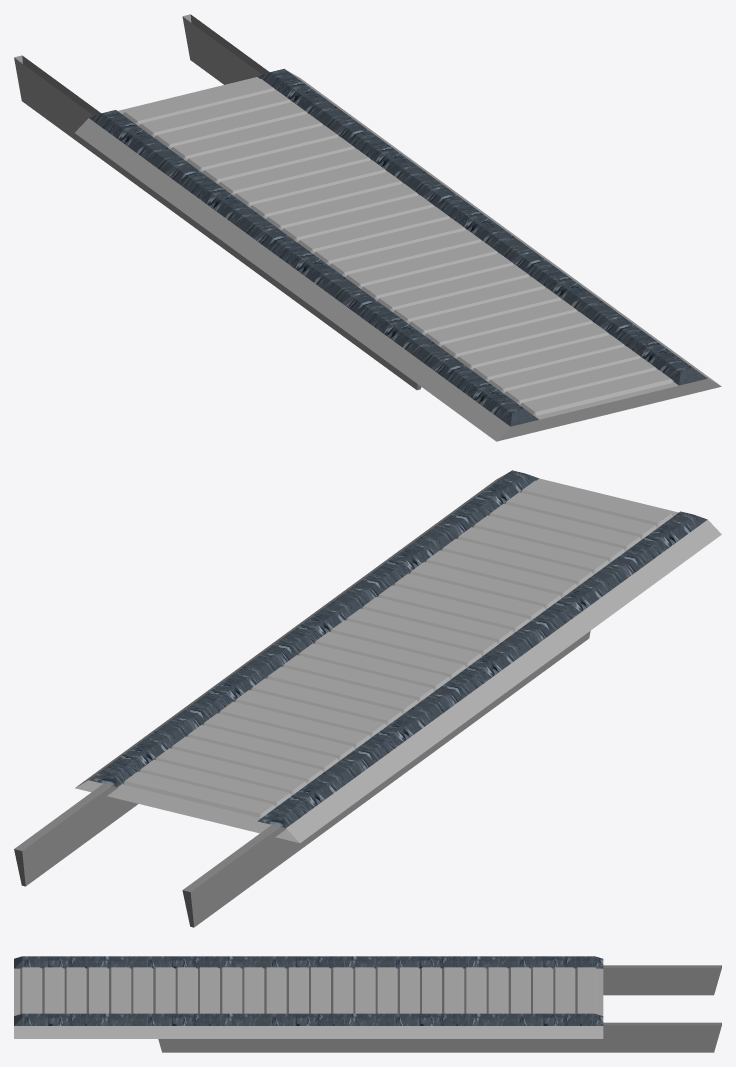
Rendered from Bridge.fbx.
3 views of the same model, one above another, from view 1: azimuth 30°, elevation 25°; view 2: azimuth 150°, elevation 25°; view 3: azimuth 270°, elevation 25° (orthographic). The views are drawn at different scales.
Visible parts, largest first — view 1: Board, Light, Base, Shelf; view 2: Board, Light, Base, Shelf; view 3: Board, Light, Shelf, Base.
Boxes of the visible parts, x1,y1,x2,y2 form: Board: (123, 78, 673, 415); Light: (89, 68, 707, 426); Base: (75, 71, 721, 441); Shelf: (14, 14, 421, 390); Board: (122, 480, 673, 817); Light: (89, 470, 707, 828); Base: (75, 472, 721, 842); Shelf: (14, 631, 590, 927); Board: (20, 967, 597, 1014); Light: (14, 956, 603, 1025); Shelf: (158, 965, 721, 1052); Base: (14, 968, 603, 1038).
Bounding box in the file's own units: 6.09 × 1.33 × 23.7.
